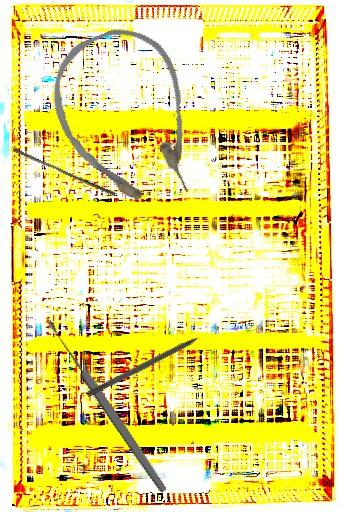Cannula: (35, 13, 219, 227)
Hook Surgical: (85, 327, 217, 399)
Pusher: (11, 147, 118, 197)
Surgical Spoon: (44, 317, 170, 495)
